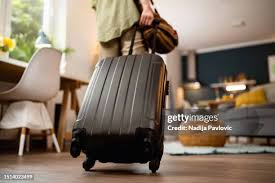suitcase: (67, 18, 174, 172)
